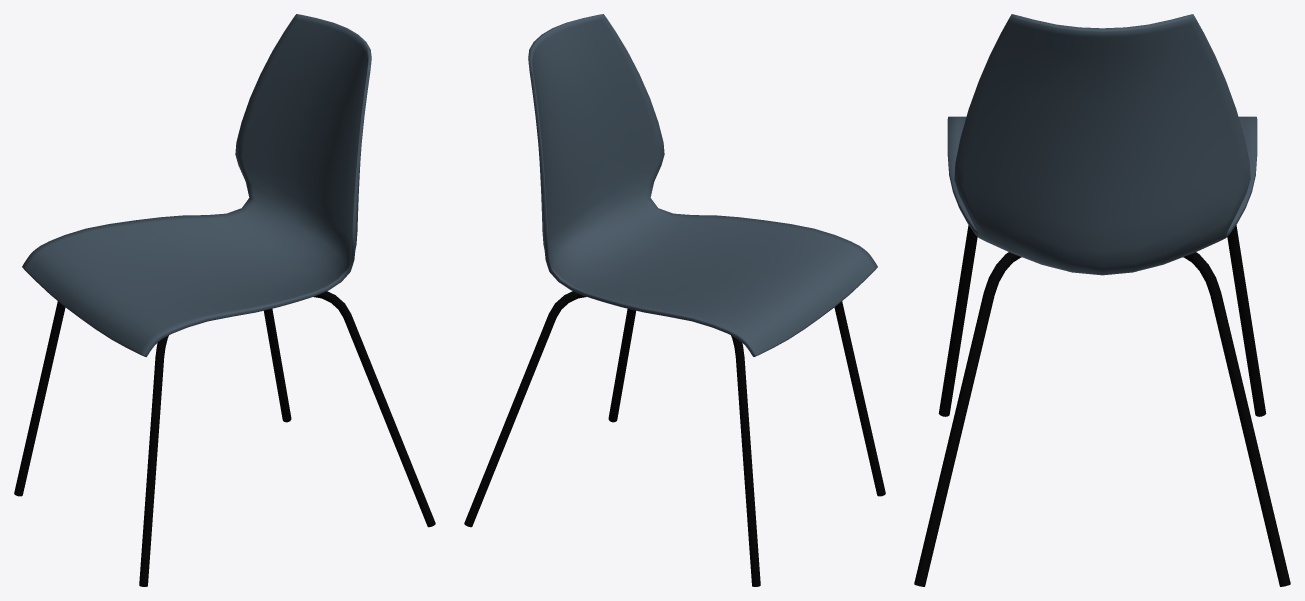
Rendered from 109 stol BLÅ.obj.
3 views of the same model, side by side, from view 1: azimuth 30°, elevation 25°; view 2: azimuth 150°, elevation 25°; view 3: azimuth 270°, elevation 25° (orthographic). The views are drawn at different scales.
Parts seen in each view (by area): view 1: furniture_megapack_1821, furniture_megapack_1822, furniture_megapack_1823; view 2: furniture_megapack_1821, furniture_megapack_1823, furniture_megapack_1822; view 3: furniture_megapack_1821, furniture_megapack_1822, furniture_megapack_1823.
Boxes of the visible parts, x1=… form: furniture_megapack_1821: x1=22, y1=14, x2=371, y2=356; furniture_megapack_1822: x1=14, y1=291, x2=435, y2=527; furniture_megapack_1823: x1=139, y1=309, x2=291, y2=586; furniture_megapack_1821: x1=528, y1=14, x2=877, y2=356; furniture_megapack_1823: x1=464, y1=291, x2=885, y2=527; furniture_megapack_1822: x1=608, y1=309, x2=760, y2=586; furniture_megapack_1821: x1=947, y1=14, x2=1257, y2=275; furniture_megapack_1822: x1=914, y1=225, x2=1266, y2=586; furniture_megapack_1823: x1=938, y1=225, x2=1290, y2=586.
Size of the model in its own units: 55.24 by 81.28 by 49.86.
